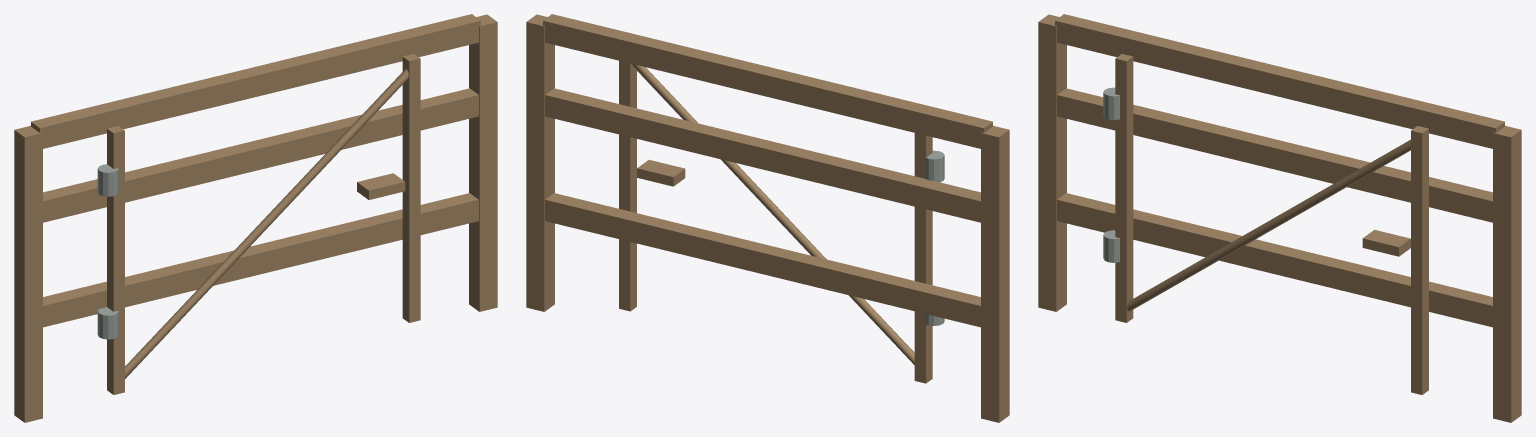
Rendered from zoo-and-safari-park-builder-timber-rail-gate-5ac79f35__21450.glb.
3 renders of one model, left to right at view 1: azimuth 30°, elevation 25°; view 2: azimuth 150°, elevation 25°; view 3: azimuth 330°, elevation 25°, orthographic.
Visible parts, largest first — view 1: timber-rail-gate; view 2: timber-rail-gate; view 3: timber-rail-gate.
Boxes of the visible parts, <box> form: timber-rail-gate: <box>14,14,497,422</box>; timber-rail-gate: <box>526,14,1009,422</box>; timber-rail-gate: <box>1038,14,1521,422</box>.
Bounding box in the file's own units: 2.08 × 1.22 × 0.1549.
